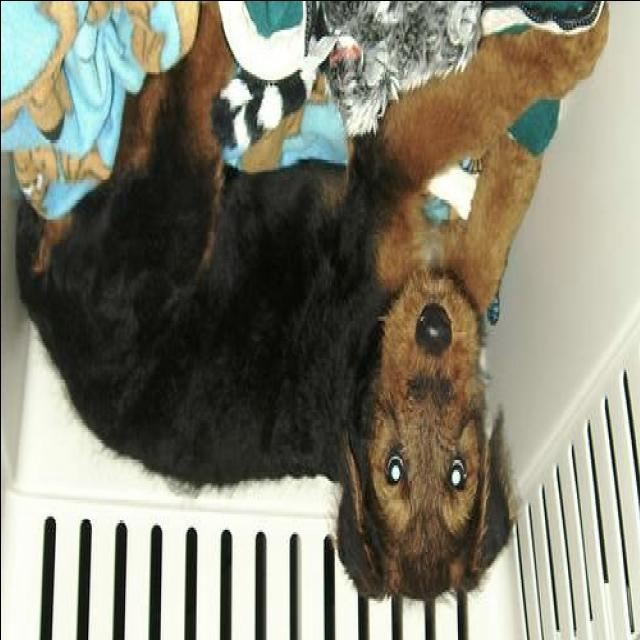airedale: (14, 2, 610, 604)
